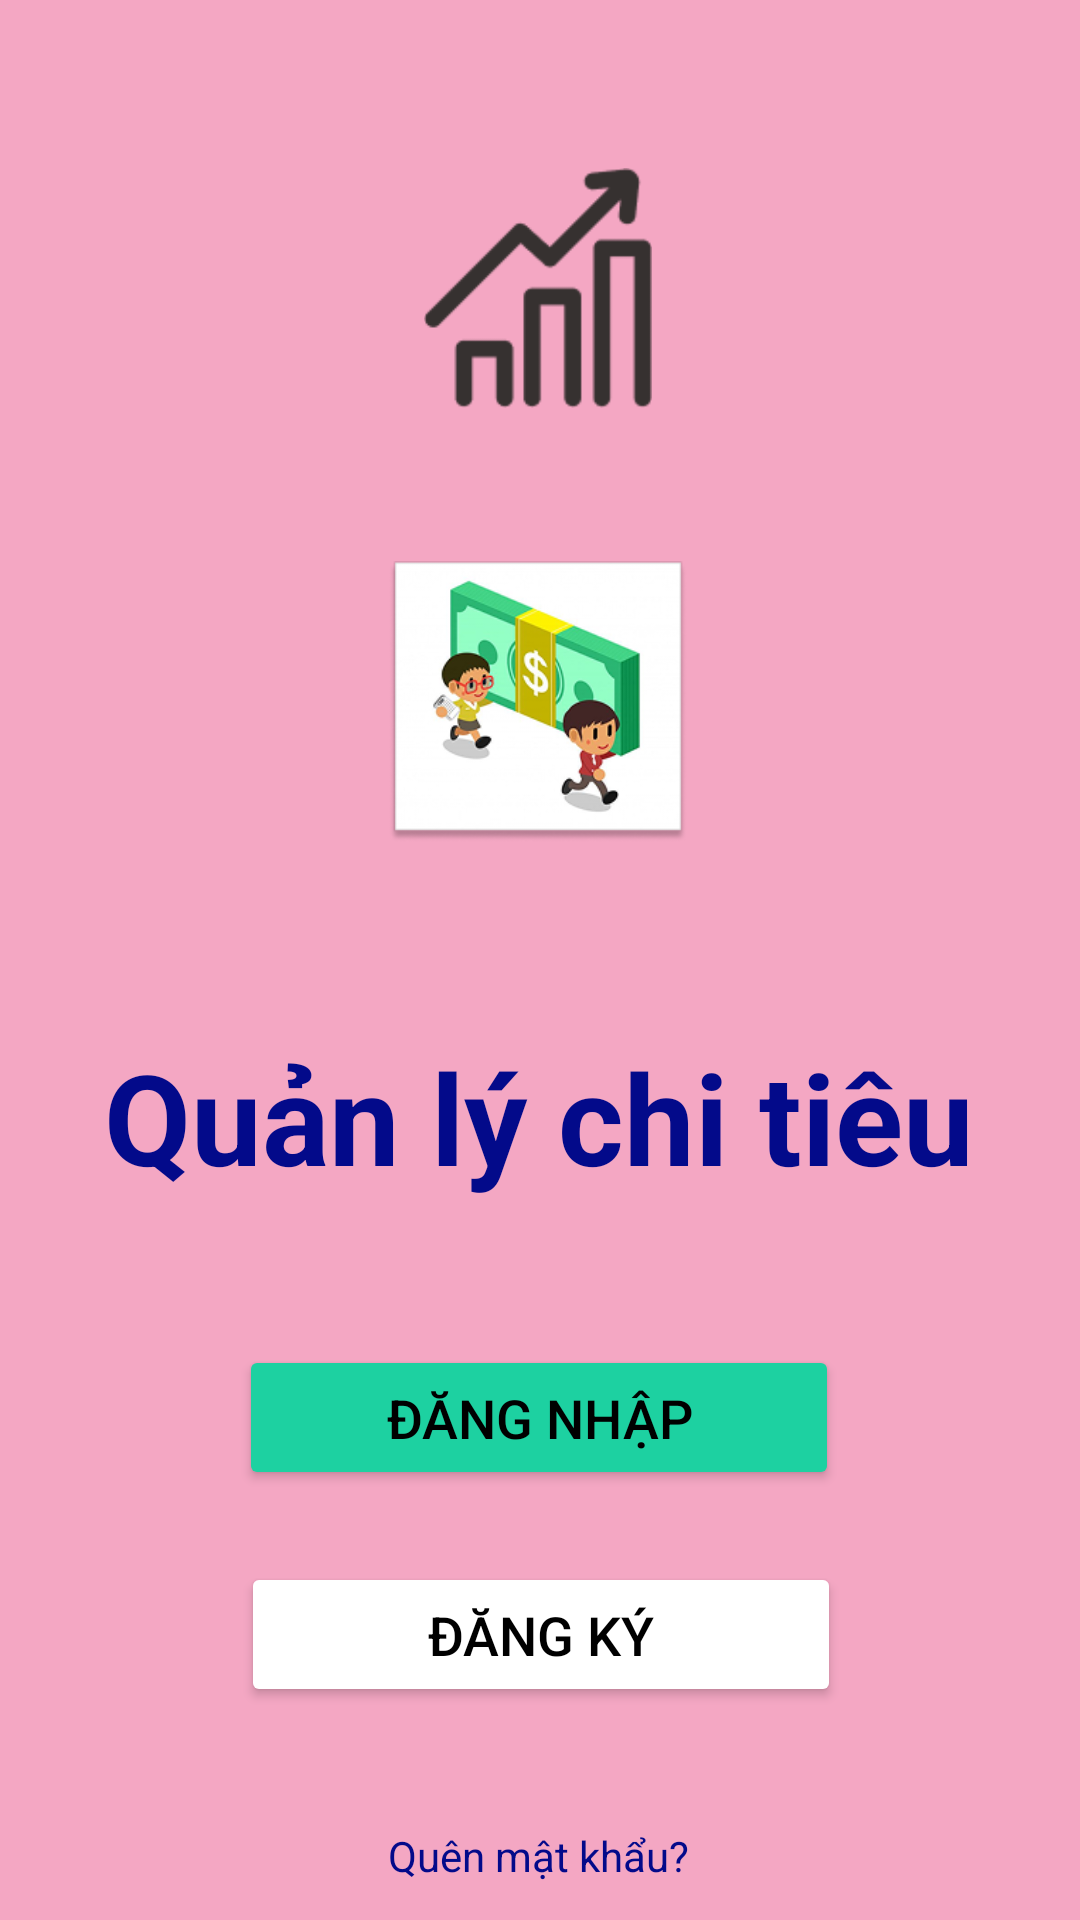

Screen size 1080w x 1920h. Icon name, then its center in pixels as (x=x, y=y):
anh: (x=538, y=700)
